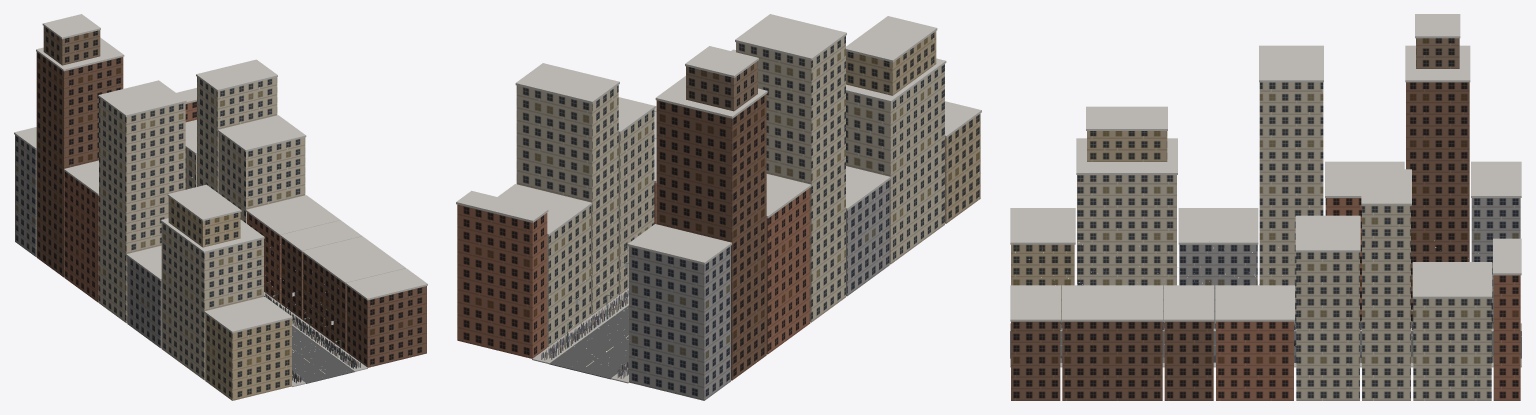
The model's file is parade-street.glb.
3 views of the same model, side by side, from view 1: azimuth 30°, elevation 25°; view 2: azimuth 150°, elevation 25°; view 3: azimuth 270°, elevation 25° (orthographic). The views are drawn at different scales.
Visible parts, largest first — view 1: buildings, street, crowd-right; view 2: buildings, street, crowd-right; view 3: buildings, street.
Boxes of the visible parts, x1,y1,x2,y2 form: buildings: (14,14,427,400); street: (264,292,367,386); crowd-right: (264,293,360,368); buildings: (456,14,981,400); street: (532,288,628,383); crowd-right: (541,290,628,360); buildings: (1010,14,1521,400); street: (1010,323,1521,367).
Bounding box in the file's own units: 72.4 × 83.8 × 140.
22 materials, 6 textured.
